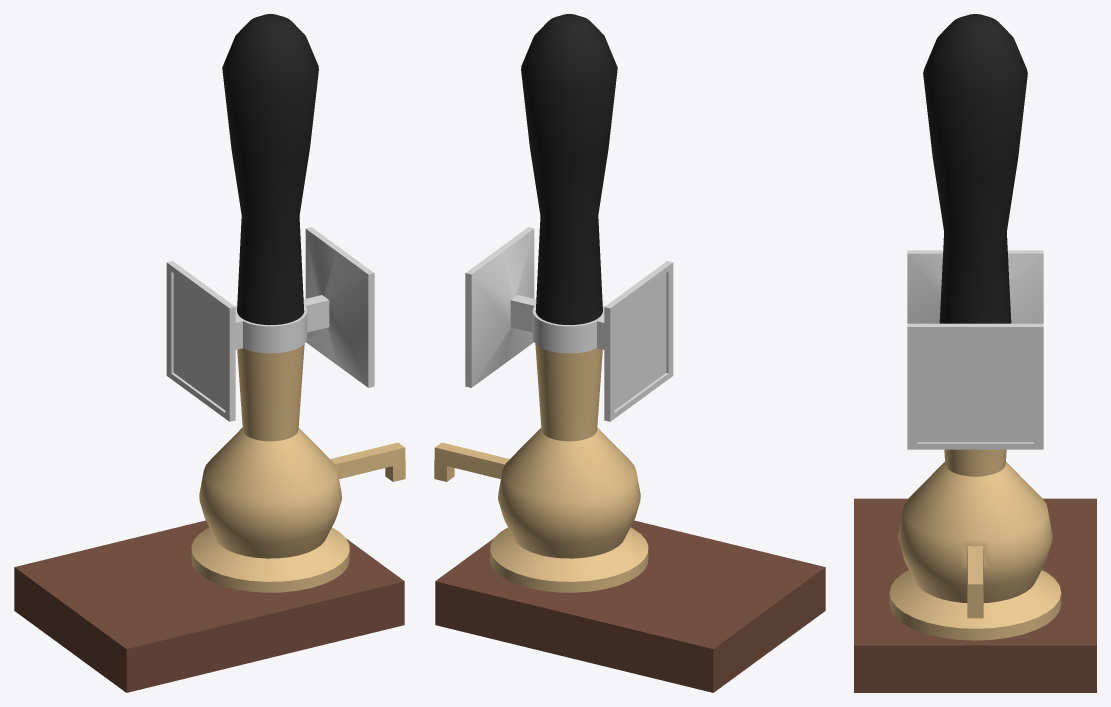
Rendered from SM_Tap_Corona.fbx.
3 renders of one model, left to right at view 1: azimuth 30°, elevation 25°; view 2: azimuth 150°, elevation 25°; view 3: azimuth 270°, elevation 25°, orthographic. The views are drawn at different scales.
Parts seen in each view (by area): view 1: SM_Tap_Corona; view 2: SM_Tap_Corona; view 3: SM_Tap_Corona.
Part boxes in pixels (box(x1,y1,x2,y2)): SM_Tap_Corona: box(14, 14, 405, 692); SM_Tap_Corona: box(434, 14, 825, 692); SM_Tap_Corona: box(854, 14, 1096, 692).
Size of the model in its own units: 39.58 by 66.72 by 23.2.
